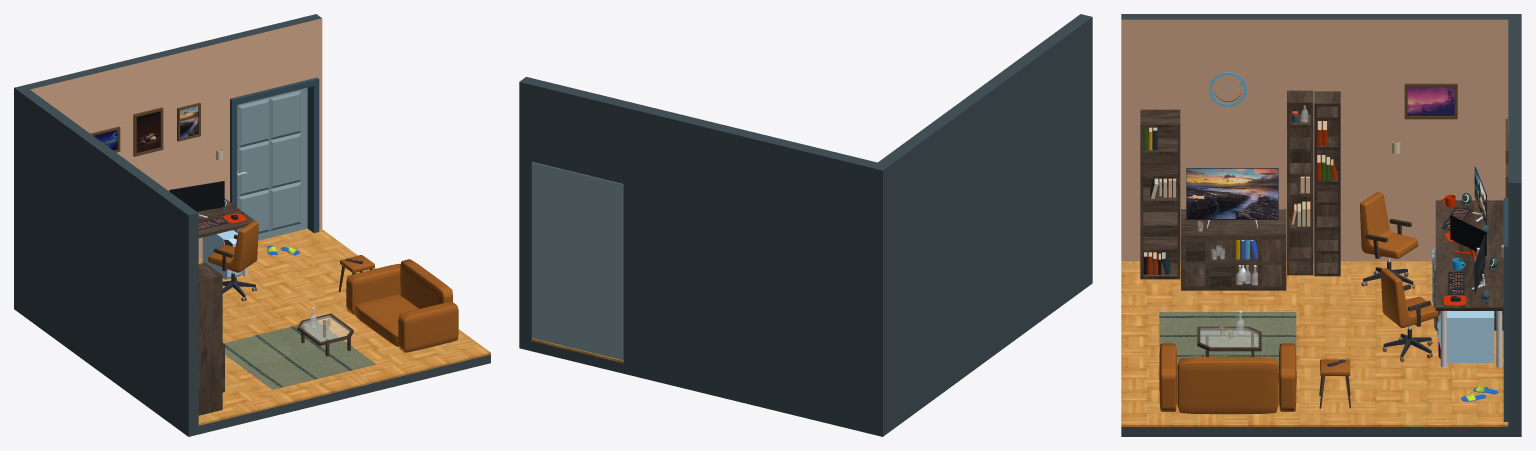
The model's file is room.glb.
3 views of the same model, side by side, from view 1: azimuth 30°, elevation 25°; view 2: azimuth 150°, elevation 25°; view 3: azimuth 270°, elevation 25° (orthographic). The views are drawn at different scales.
Visible parts, largest first — view 1: Plane_84, Plane.013_88, Plane.001_85, Cube.012_19, Plane.006_17, Plane.004_108, Plane.012_87, Cube_96, Plane.015_90, Cube.005_5, Plane.008_56, Cube.007_8 (+4 smaller); view 2: Plane_84, Plane.001_85; view 3: Plane_84, Plane.013_88, Cube.012_19, Plane.005_109, Plane.004_108, Plane.008_56, Plane.006_17, Cube.003_1, Plane.002_106, Plane.003_107, Cube.007_8, Cube.035_58 (+17 smaller).
Part boxes in pixels (left/top/right/bottom): Plane_84: left=14, top=14, right=490, bottom=436; Plane.013_88: left=198, top=228, right=490, bottom=425; Plane.001_85: left=237, top=87, right=307, bottom=240; Cube.012_19: left=346, top=259, right=458, bottom=352; Plane.006_17: left=224, top=321, right=376, bottom=389; Plane.004_108: left=198, top=262, right=222, bottom=415; Plane.012_87: left=230, top=77, right=319, bottom=232; Cube_96: left=208, top=221, right=258, bottom=272; Plane.015_90: left=133, top=107, right=163, bottom=156; Cube.005_5: left=169, top=181, right=224, bottom=211; Plane.008_56: left=197, top=199, right=255, bottom=238; Cube.007_8: left=202, top=230, right=241, bottom=279; Plane_84: left=519, top=14, right=1092, bottom=436; Plane.001_85: left=532, top=162, right=623, bottom=360; Plane_84: left=1121, top=14, right=1521, bottom=436; Plane.013_88: left=1121, top=261, right=1508, bottom=426; Cube.012_19: left=1159, top=343, right=1296, bottom=414; Plane.005_109: left=1181, top=209, right=1286, bottom=290; Plane.004_108: left=1140, top=109, right=1180, bottom=279; Plane.008_56: left=1433, top=200, right=1503, bottom=330; Plane.006_17: left=1159, top=312, right=1296, bottom=369; Cube.003_1: left=1186, top=168, right=1278, bottom=219; Plane.002_106: left=1314, top=91, right=1340, bottom=276; Plane.003_107: left=1287, top=90, right=1313, bottom=275; Cube.007_8: left=1437, top=311, right=1494, bottom=362; Cube.035_58: left=1360, top=192, right=1418, bottom=258.
Size of the model in its own units: 6 by 4.2 by 6.
Materials: 46 (9 with a texture image).
